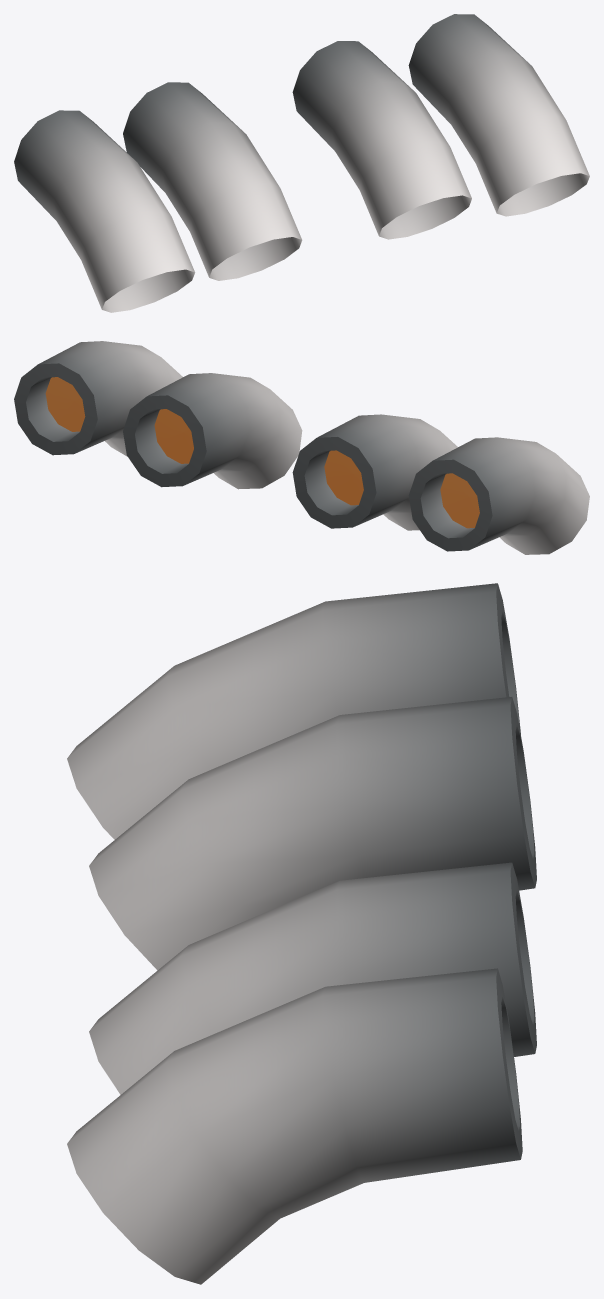
Rendered from Car_13_Pipe_Cool.fbx.
3 views of the same model, one above another, from view 1: azimuth 30°, elevation 25°; view 2: azimuth 150°, elevation 25°; view 3: azimuth 270°, elevation 25° (orthographic). The views are drawn at different scales.
Visible parts, largest first — view 1: Car_13_Pipe_Cool; view 2: Car_13_Pipe_Cool; view 3: Car_13_Pipe_Cool.
Boxes of the visible parts, bbox=[...] form: Car_13_Pipe_Cool: bbox=[14, 14, 589, 312]; Car_13_Pipe_Cool: bbox=[14, 341, 589, 554]; Car_13_Pipe_Cool: bbox=[67, 583, 536, 1284].
Size of the model in its own units: 109 by 46.2 by 31.98.
